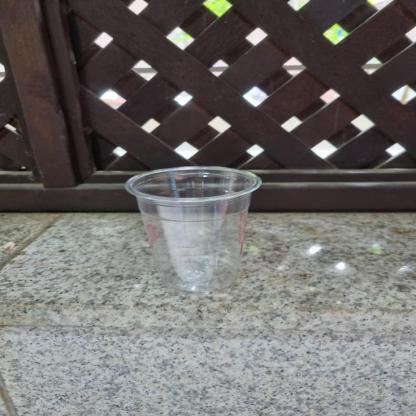Plastic Cup: (122, 161, 260, 297)
